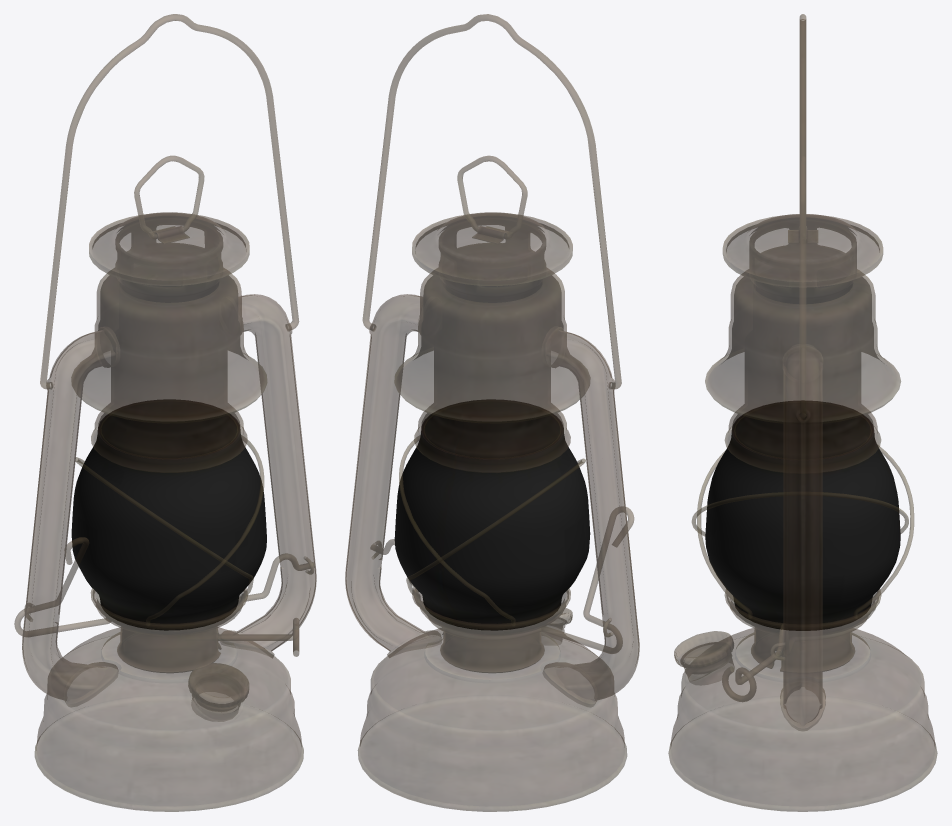
The model's file is Lantern_01.glb.
3 views of the same model, side by side, from view 1: azimuth 30°, elevation 25°; view 2: azimuth 150°, elevation 25°; view 3: azimuth 270°, elevation 25° (orthographic).
Visible parts, largest first — view 1: Lantern_01, Lantern_01_glass; view 2: Lantern_01, Lantern_01_glass; view 3: Lantern_01, Lantern_01_glass.
Boxes of the visible parts, x1,y1,x2,y2 form: Lantern_01: (14, 14, 316, 811); Lantern_01_glass: (71, 399, 266, 630); Lantern_01: (345, 14, 639, 811); Lantern_01_glass: (394, 399, 590, 630); Lantern_01: (668, 14, 937, 811); Lantern_01_glass: (705, 400, 900, 630).
Size of the model in its own units: 0.1221 by 0.2942 by 0.0972.
2 materials, 2 textured.
